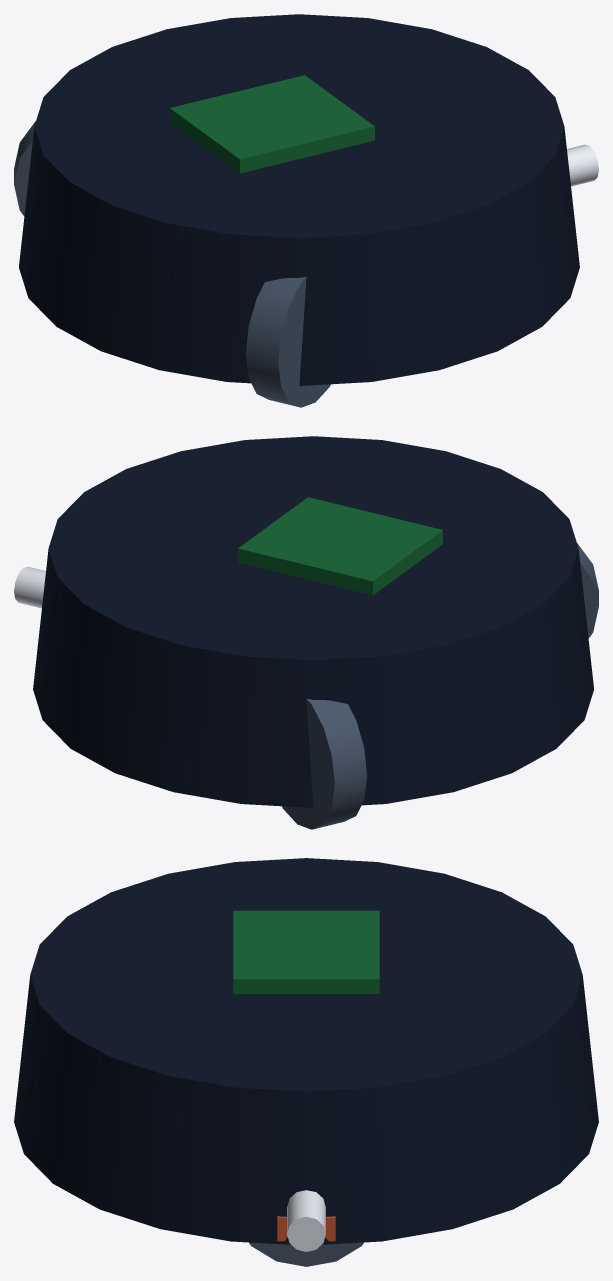
3 renders of one model, top to bottom at view 1: azimuth 30°, elevation 25°; view 2: azimuth 150°, elevation 25°; view 3: azimuth 270°, elevation 25°, orthographic. The views are drawn at different scales.
Visible parts, largest first — view 1: SoccerChassis, ControllerBoard, OmniWheel_2, BallKicker, OmniWheel_3; view 2: SoccerChassis, ControllerBoard, OmniWheel_3, BallKicker, OmniWheel_2; view 3: SoccerChassis, ControllerBoard, BallKicker, OmniWheel_1.
Boxes of the visible parts, left/top/right/bottom form: SoccerChassis: left=19, top=14, right=579, bottom=385; ControllerBoard: left=170, top=75, right=374, bottom=173; OmniWheel_2: left=246, top=276, right=330, bottom=407; BallKicker: left=567, top=144, right=598, bottom=186; OmniWheel_3: left=14, top=121, right=35, bottom=215; SoccerChassis: left=33, top=436, right=593, bottom=807; ControllerBoard: left=238, top=497, right=442, bottom=595; OmniWheel_3: left=282, top=698, right=366, bottom=829; BallKicker: left=14, top=566, right=45, bottom=608; OmniWheel_2: left=577, top=543, right=598, bottom=637; SoccerChassis: left=14, top=858, right=598, bottom=1244; ControllerBoard: left=233, top=910, right=379, bottom=993; BallKicker: left=287, top=1190, right=325, bottom=1251; OmniWheel_1: left=249, top=1242, right=363, bottom=1266.
Bounding box in the file's own units: 1.97 × 0.655 × 1.8.
